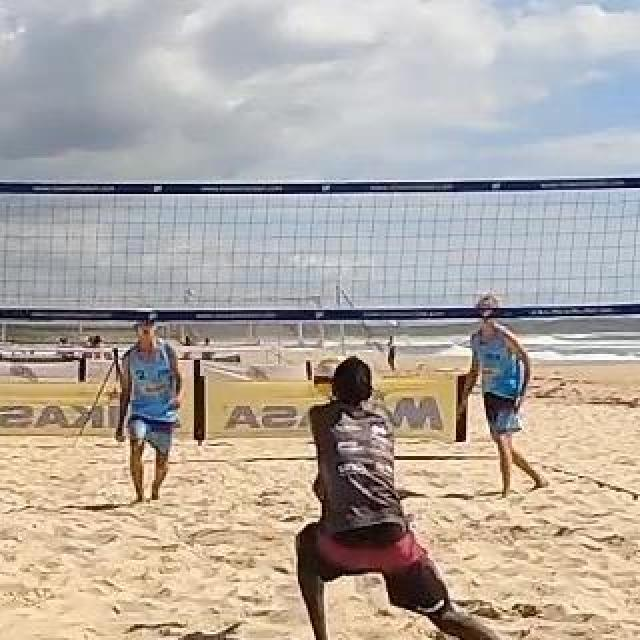volleyball: (311, 356, 351, 398)
